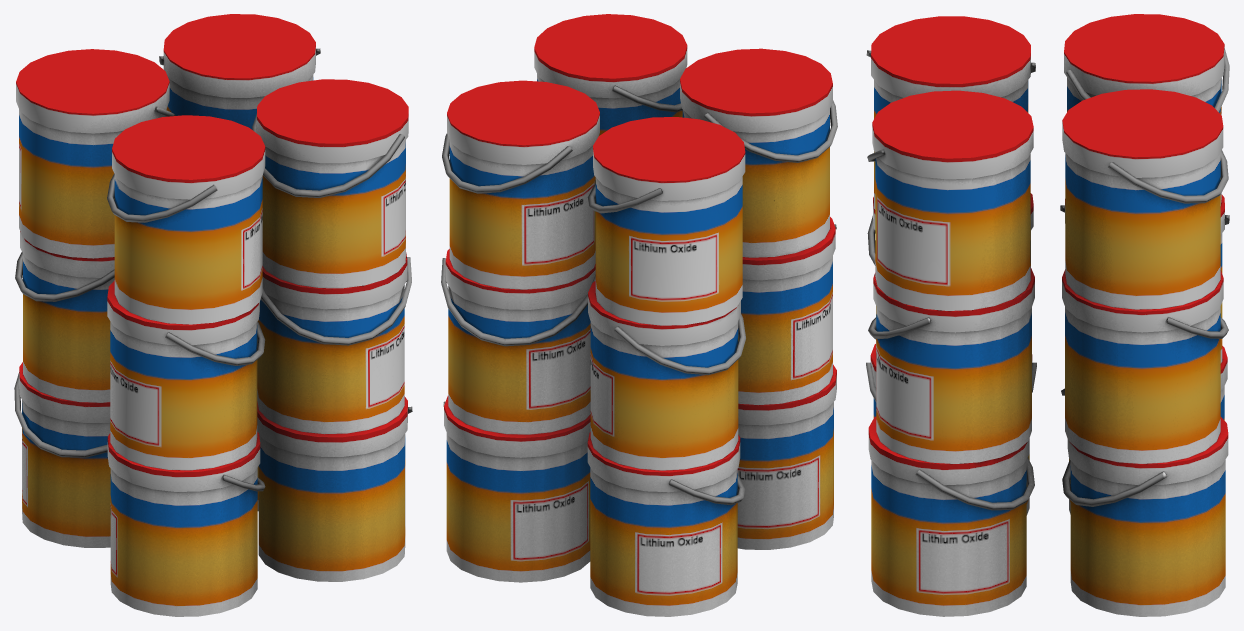
Rendered from lithiumOxide_L.fbx.
3 renders of one model, left to right at view 1: azimuth 30°, elevation 25°; view 2: azimuth 150°, elevation 25°; view 3: azimuth 270°, elevation 25°, orthographic. The views are drawn at different scales.
Visible parts, largest first — view 1: lithiumOxide_L; view 2: lithiumOxide_L; view 3: lithiumOxide_L.
Boxes of the visible parts, x1,y1,x2,y2 form: lithiumOxide_L: [14, 14, 412, 616]; lithiumOxide_L: [441, 14, 837, 616]; lithiumOxide_L: [866, 14, 1229, 616].
Bounding box in the file's own units: 0.4768 × 0.7018 × 0.5022.
1 material, 1 textured.
